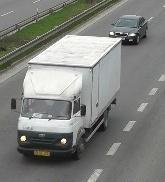Car: (109, 14, 150, 46)
Truck: (17, 33, 120, 160)
